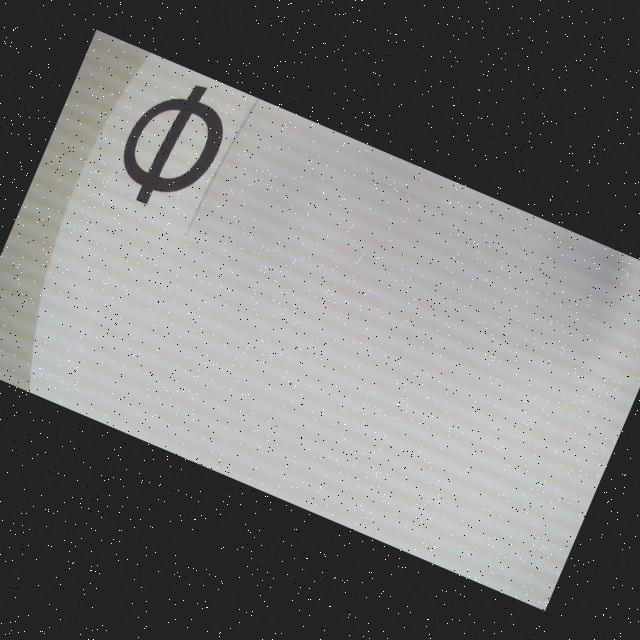PHI: (106, 65, 240, 224)
